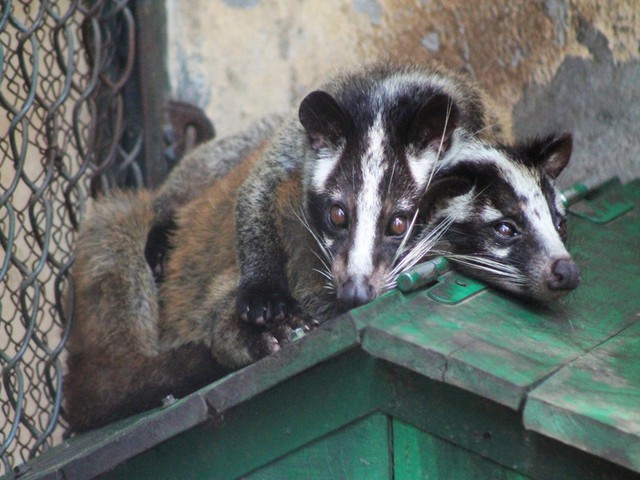civet: (66, 59, 448, 407), (456, 73, 582, 321)
